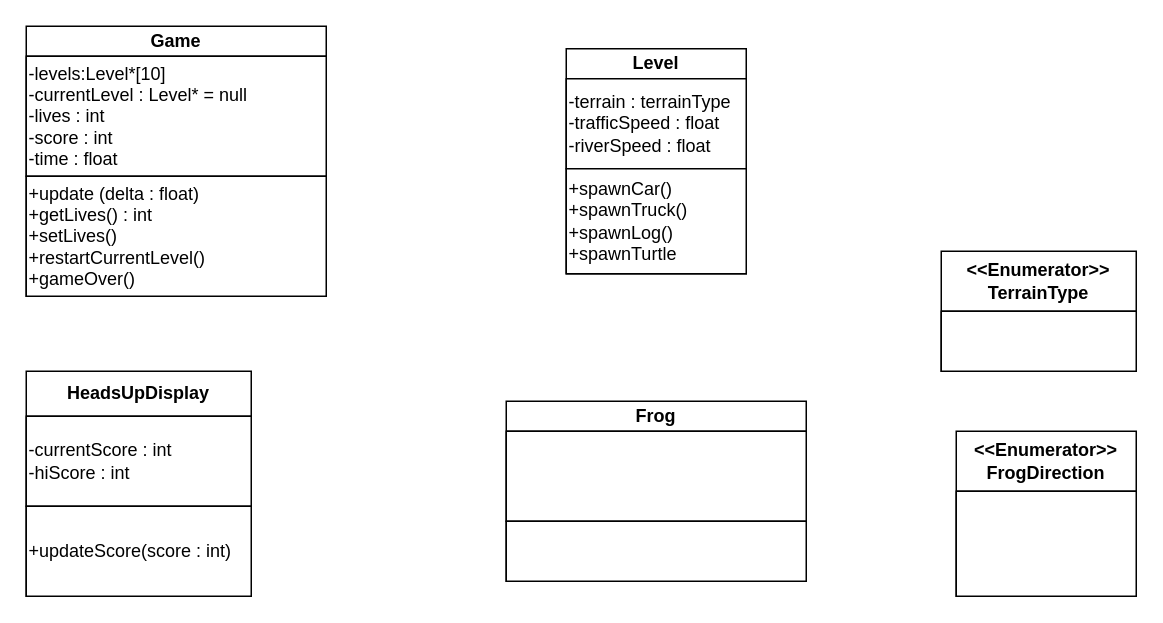
Image size: 1163x623. Some labels were removed from this diagram. The centre of each missing label's shape, as x and y in pixels:
"+move(dir:FrogDirection)" belongs at pixel 655 550.
"-x : float -y : float -direction : FrogDirection" belongs at pixel 655 475.
"Concrete Water" belongs at pixel 1038 340.
"Up Down Left Right" belongs at pixel 1045 543.
